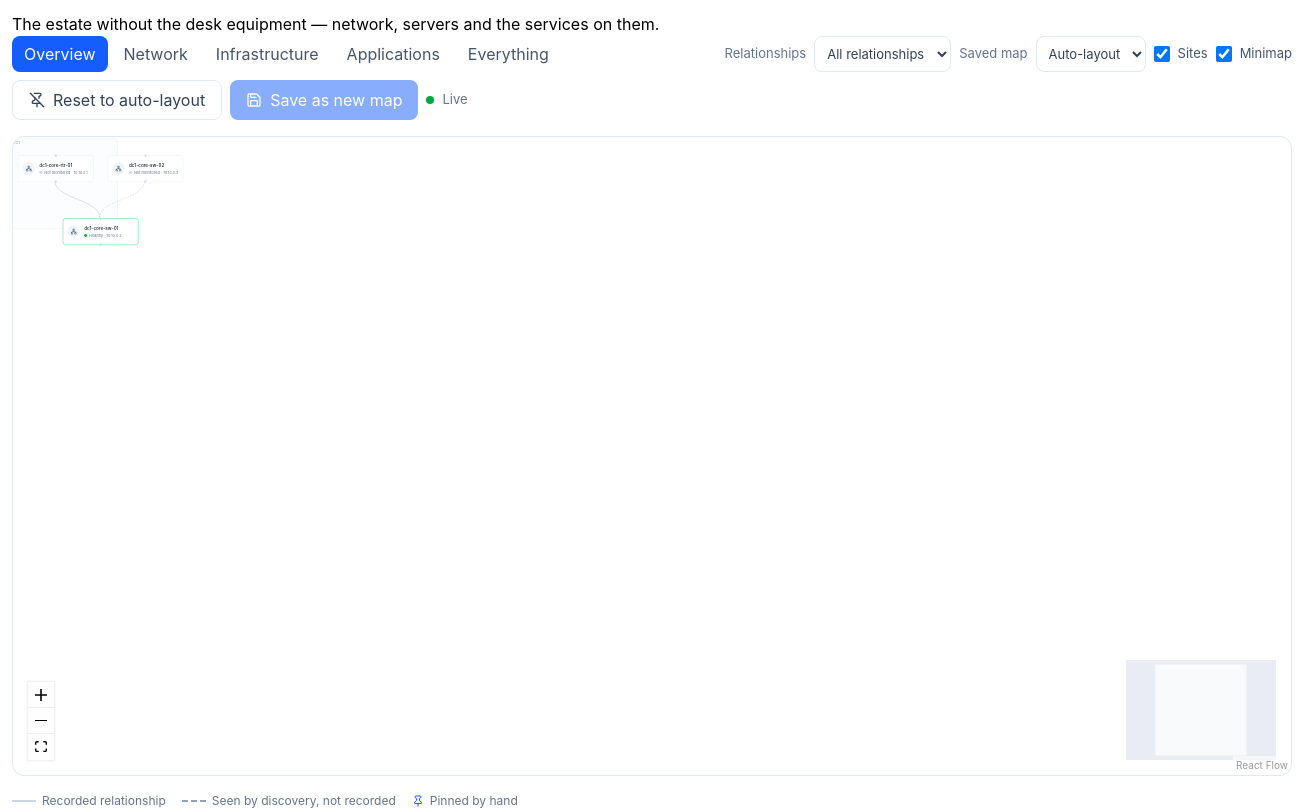
Test: TopologyPage › offers to reset to the automatic layout
Expected: the link "dc1-core-sw-01" is shown, [84, 225, 118, 231]
What coordinates should you click on to do the following:
click the button "Reset to auto-layout"
I would click on:
 (117, 100)
Its box is [12, 80, 222, 120].
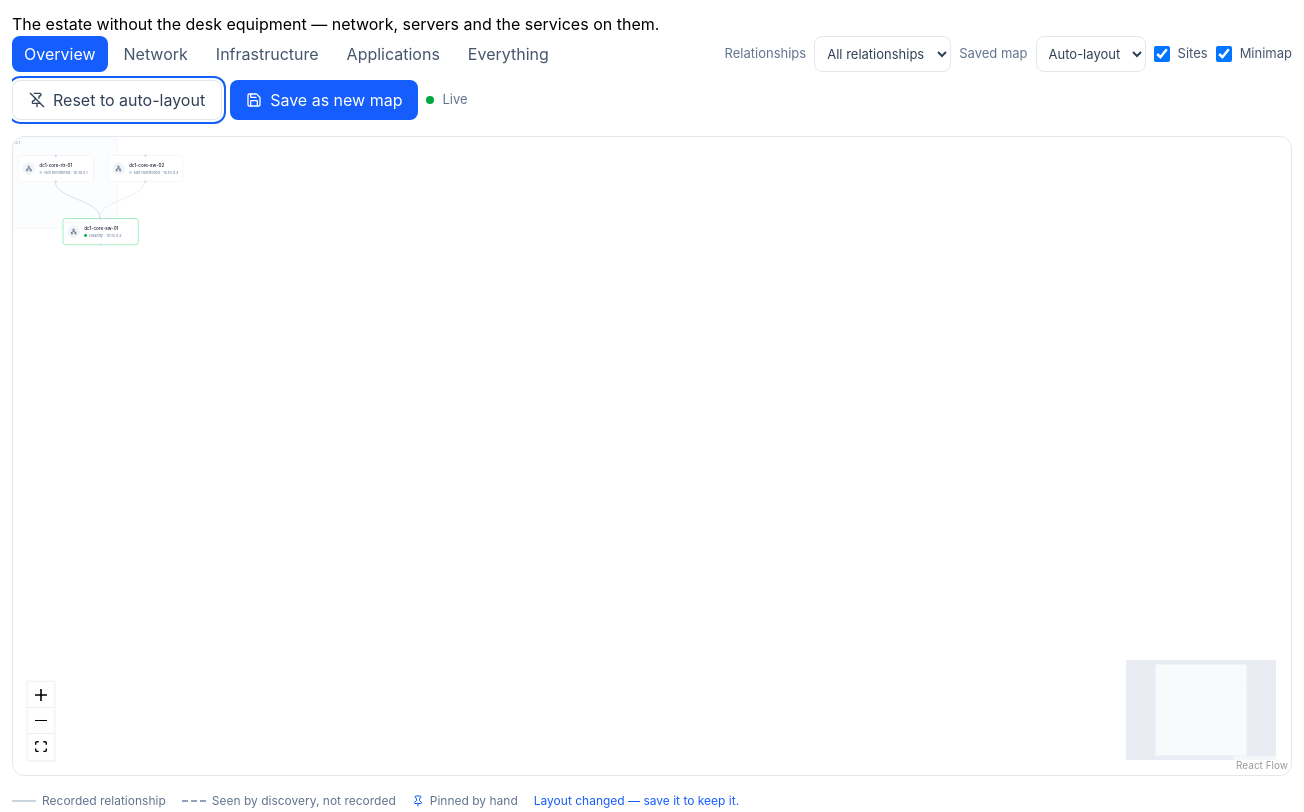
Expected: the button "Save as new map" is enabled, [230, 80, 418, 120]
